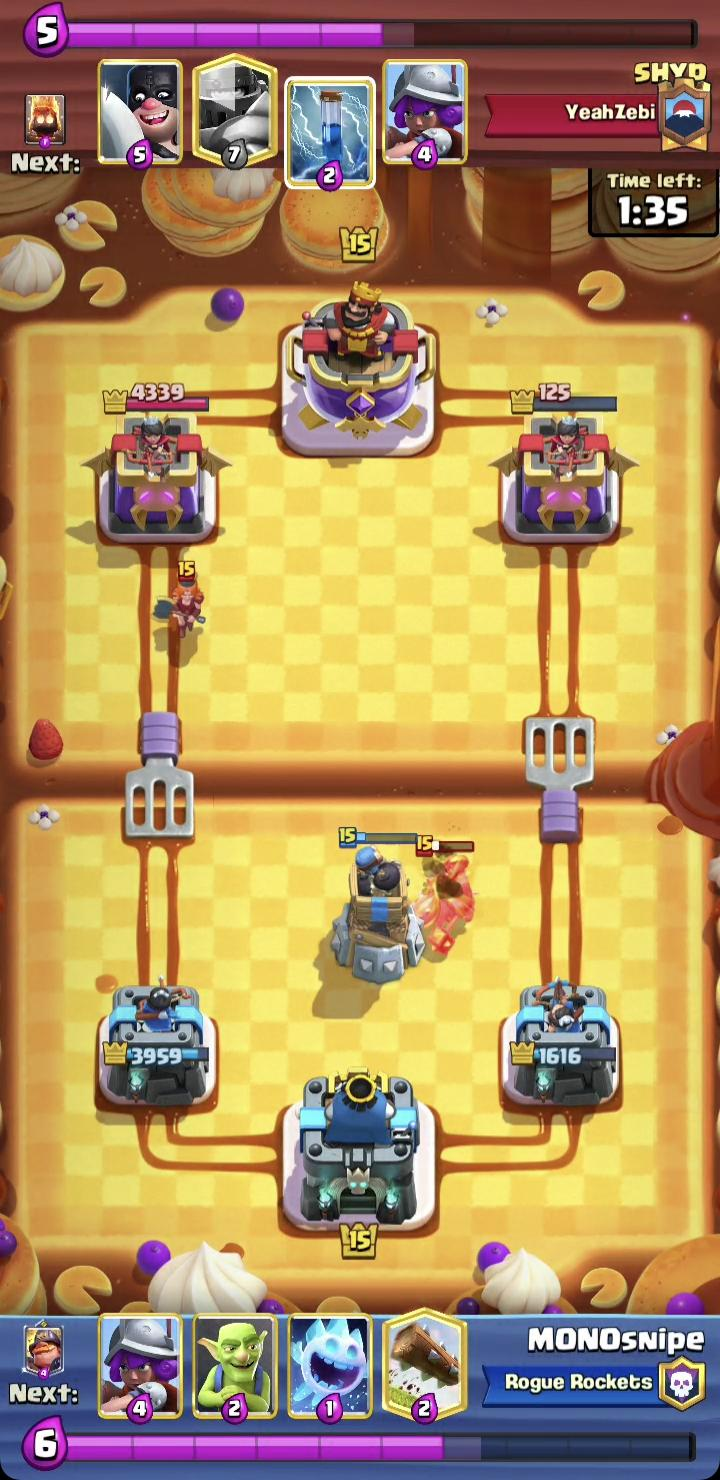EBeserker: (330, 826, 427, 985)
EXbow: (403, 836, 477, 958)
OEx: (154, 560, 210, 636)
